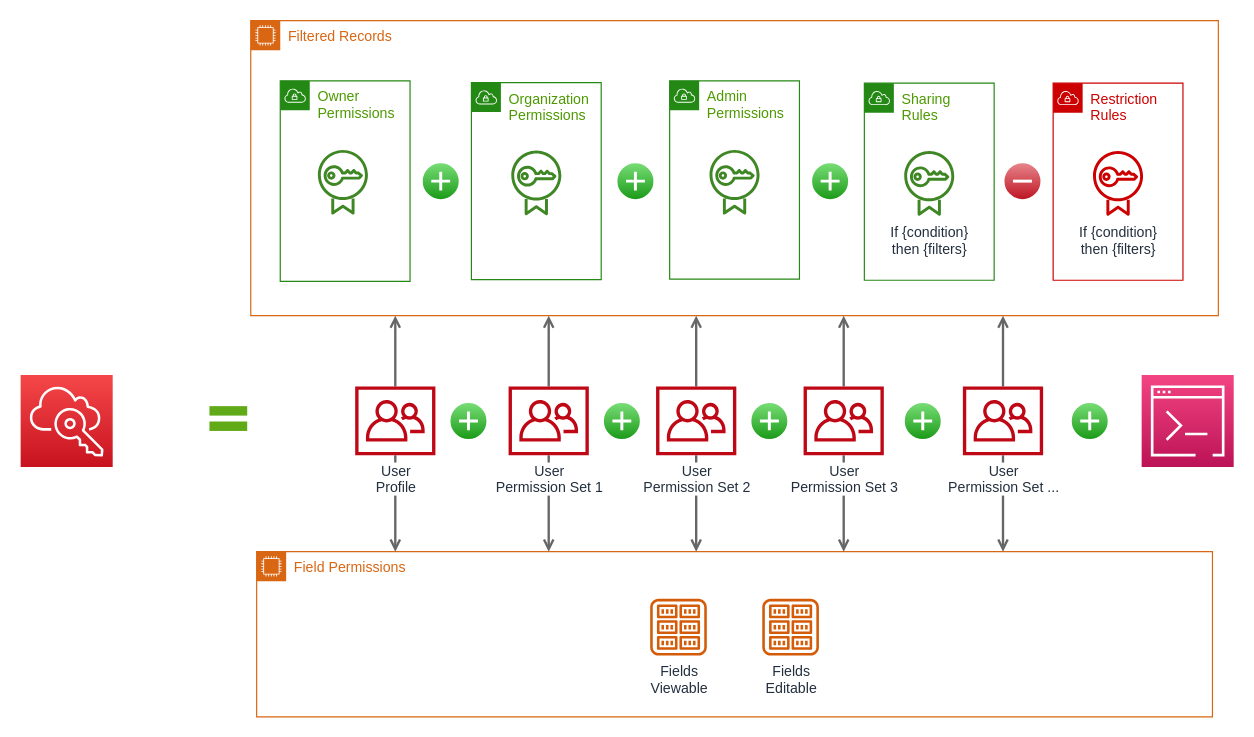
The diagram is 1254 pixels wide and 737 high, and some of its shapes have lost their labels. The centre of each missing label's shape, as x and y in pixels:
"beforeFind Triggers" goes at pixel 1187 420.
"Read / Modify Specific Orgs" goes at pixel 536 182.
"Read All Modify All" goes at pixel 734 182.
"Read My Own Modify My Own" goes at pixel 342 182.
"User Permissions" goes at pixel 66 420.
